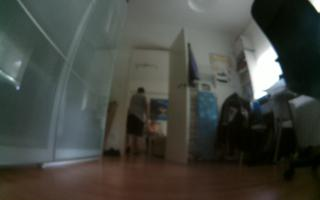person: (124, 85, 152, 161), (145, 114, 165, 160)
